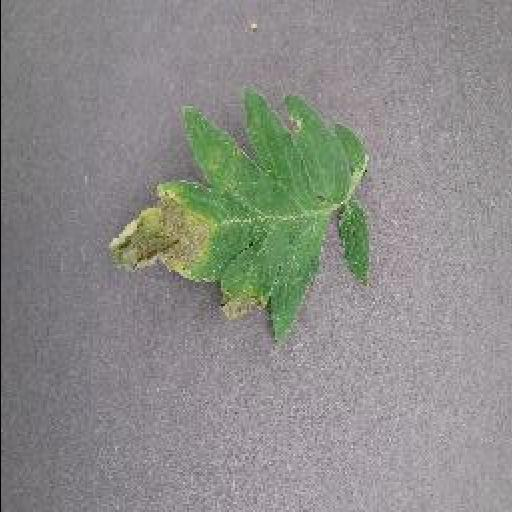disease_tomato: (108, 90, 370, 342)
